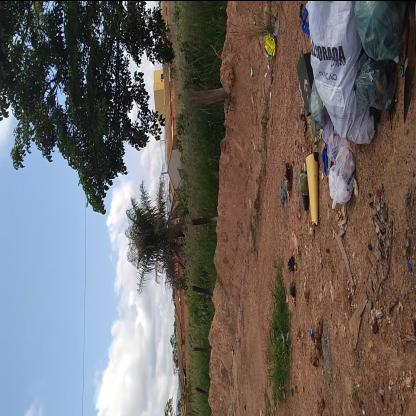lixo: (295, 0, 405, 238)
